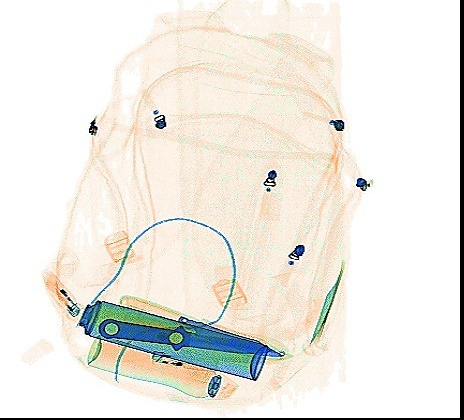knife: (117, 294, 283, 357), (95, 314, 272, 354)
lighter: (40, 269, 81, 318), (148, 348, 218, 372)
pressure: (63, 299, 268, 380), (85, 331, 239, 400)
